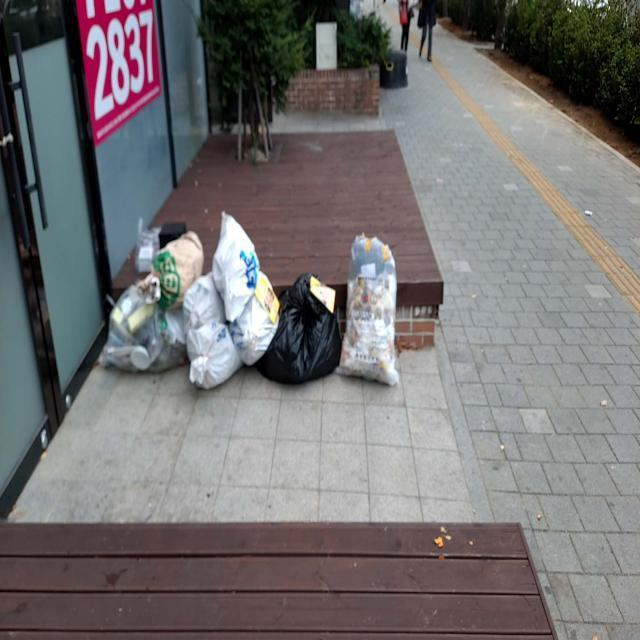Trashbag: (263, 283, 342, 382)
